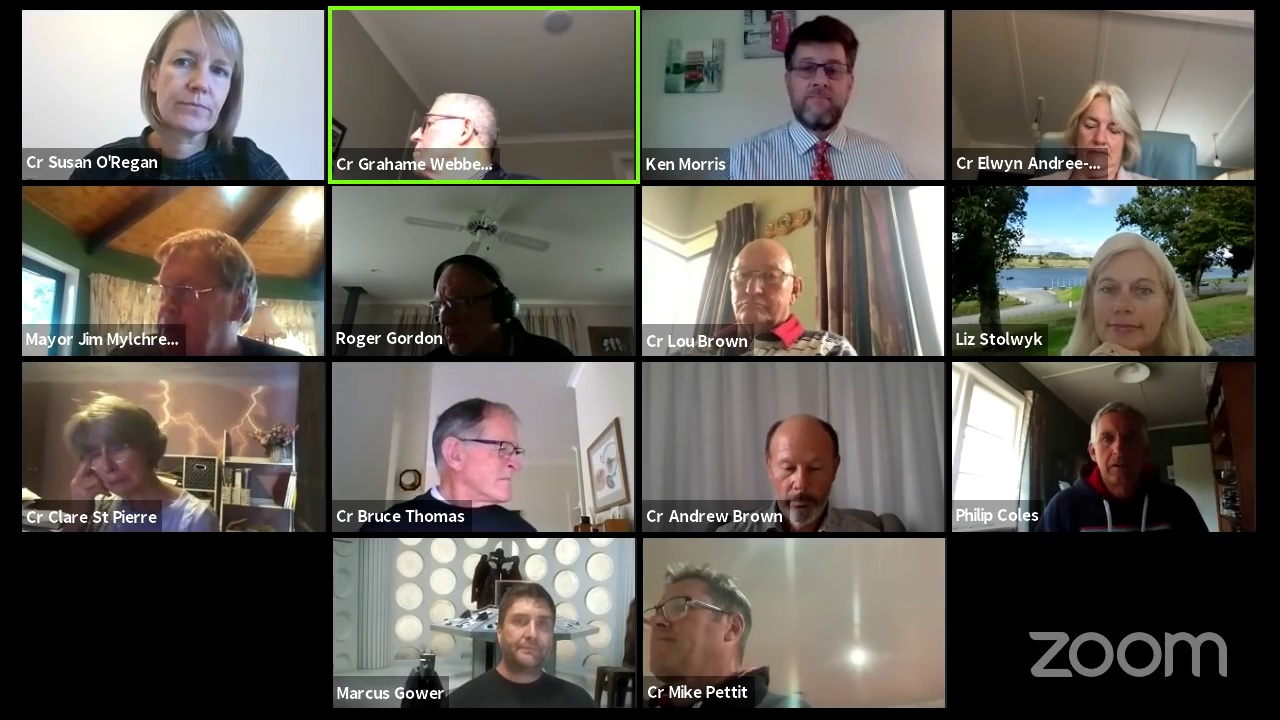Distracted: (147, 243, 251, 346), (431, 407, 527, 507), (652, 576, 740, 676), (760, 425, 840, 521), (71, 417, 166, 489), (433, 267, 507, 352), (1066, 88, 1136, 173), (407, 91, 488, 164)
Not Distracted: (145, 17, 235, 130), (1081, 242, 1170, 346), (783, 26, 854, 138), (726, 241, 801, 324), (1088, 405, 1151, 484), (495, 589, 563, 662)
